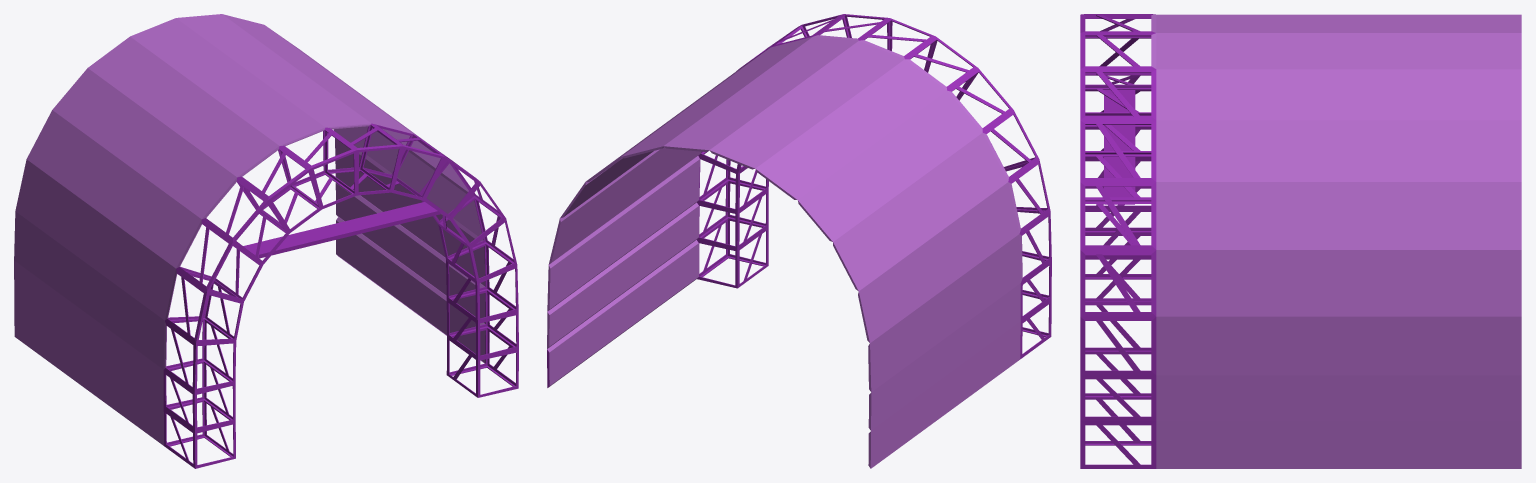
File: SmallPortal.fbx
The picture shows the model from 3 angles, left to right: view 1: azimuth 30°, elevation 25°; view 2: azimuth 150°, elevation 25°; view 3: azimuth 270°, elevation 25°; orthographic projection. The views are drawn at different scales.
Parts seen in each view (by area): view 1: PortalResized; view 2: PortalResized; view 3: PortalResized.
Part boxes in pixels (x1=…): PortalResized: x1=14, y1=14, x2=518, y2=468; PortalResized: x1=547, y1=14, x2=1051, y2=468; PortalResized: x1=1080, y1=14, x2=1521, y2=468.
Size of the model in its own units: 303 by 250 by 293.
